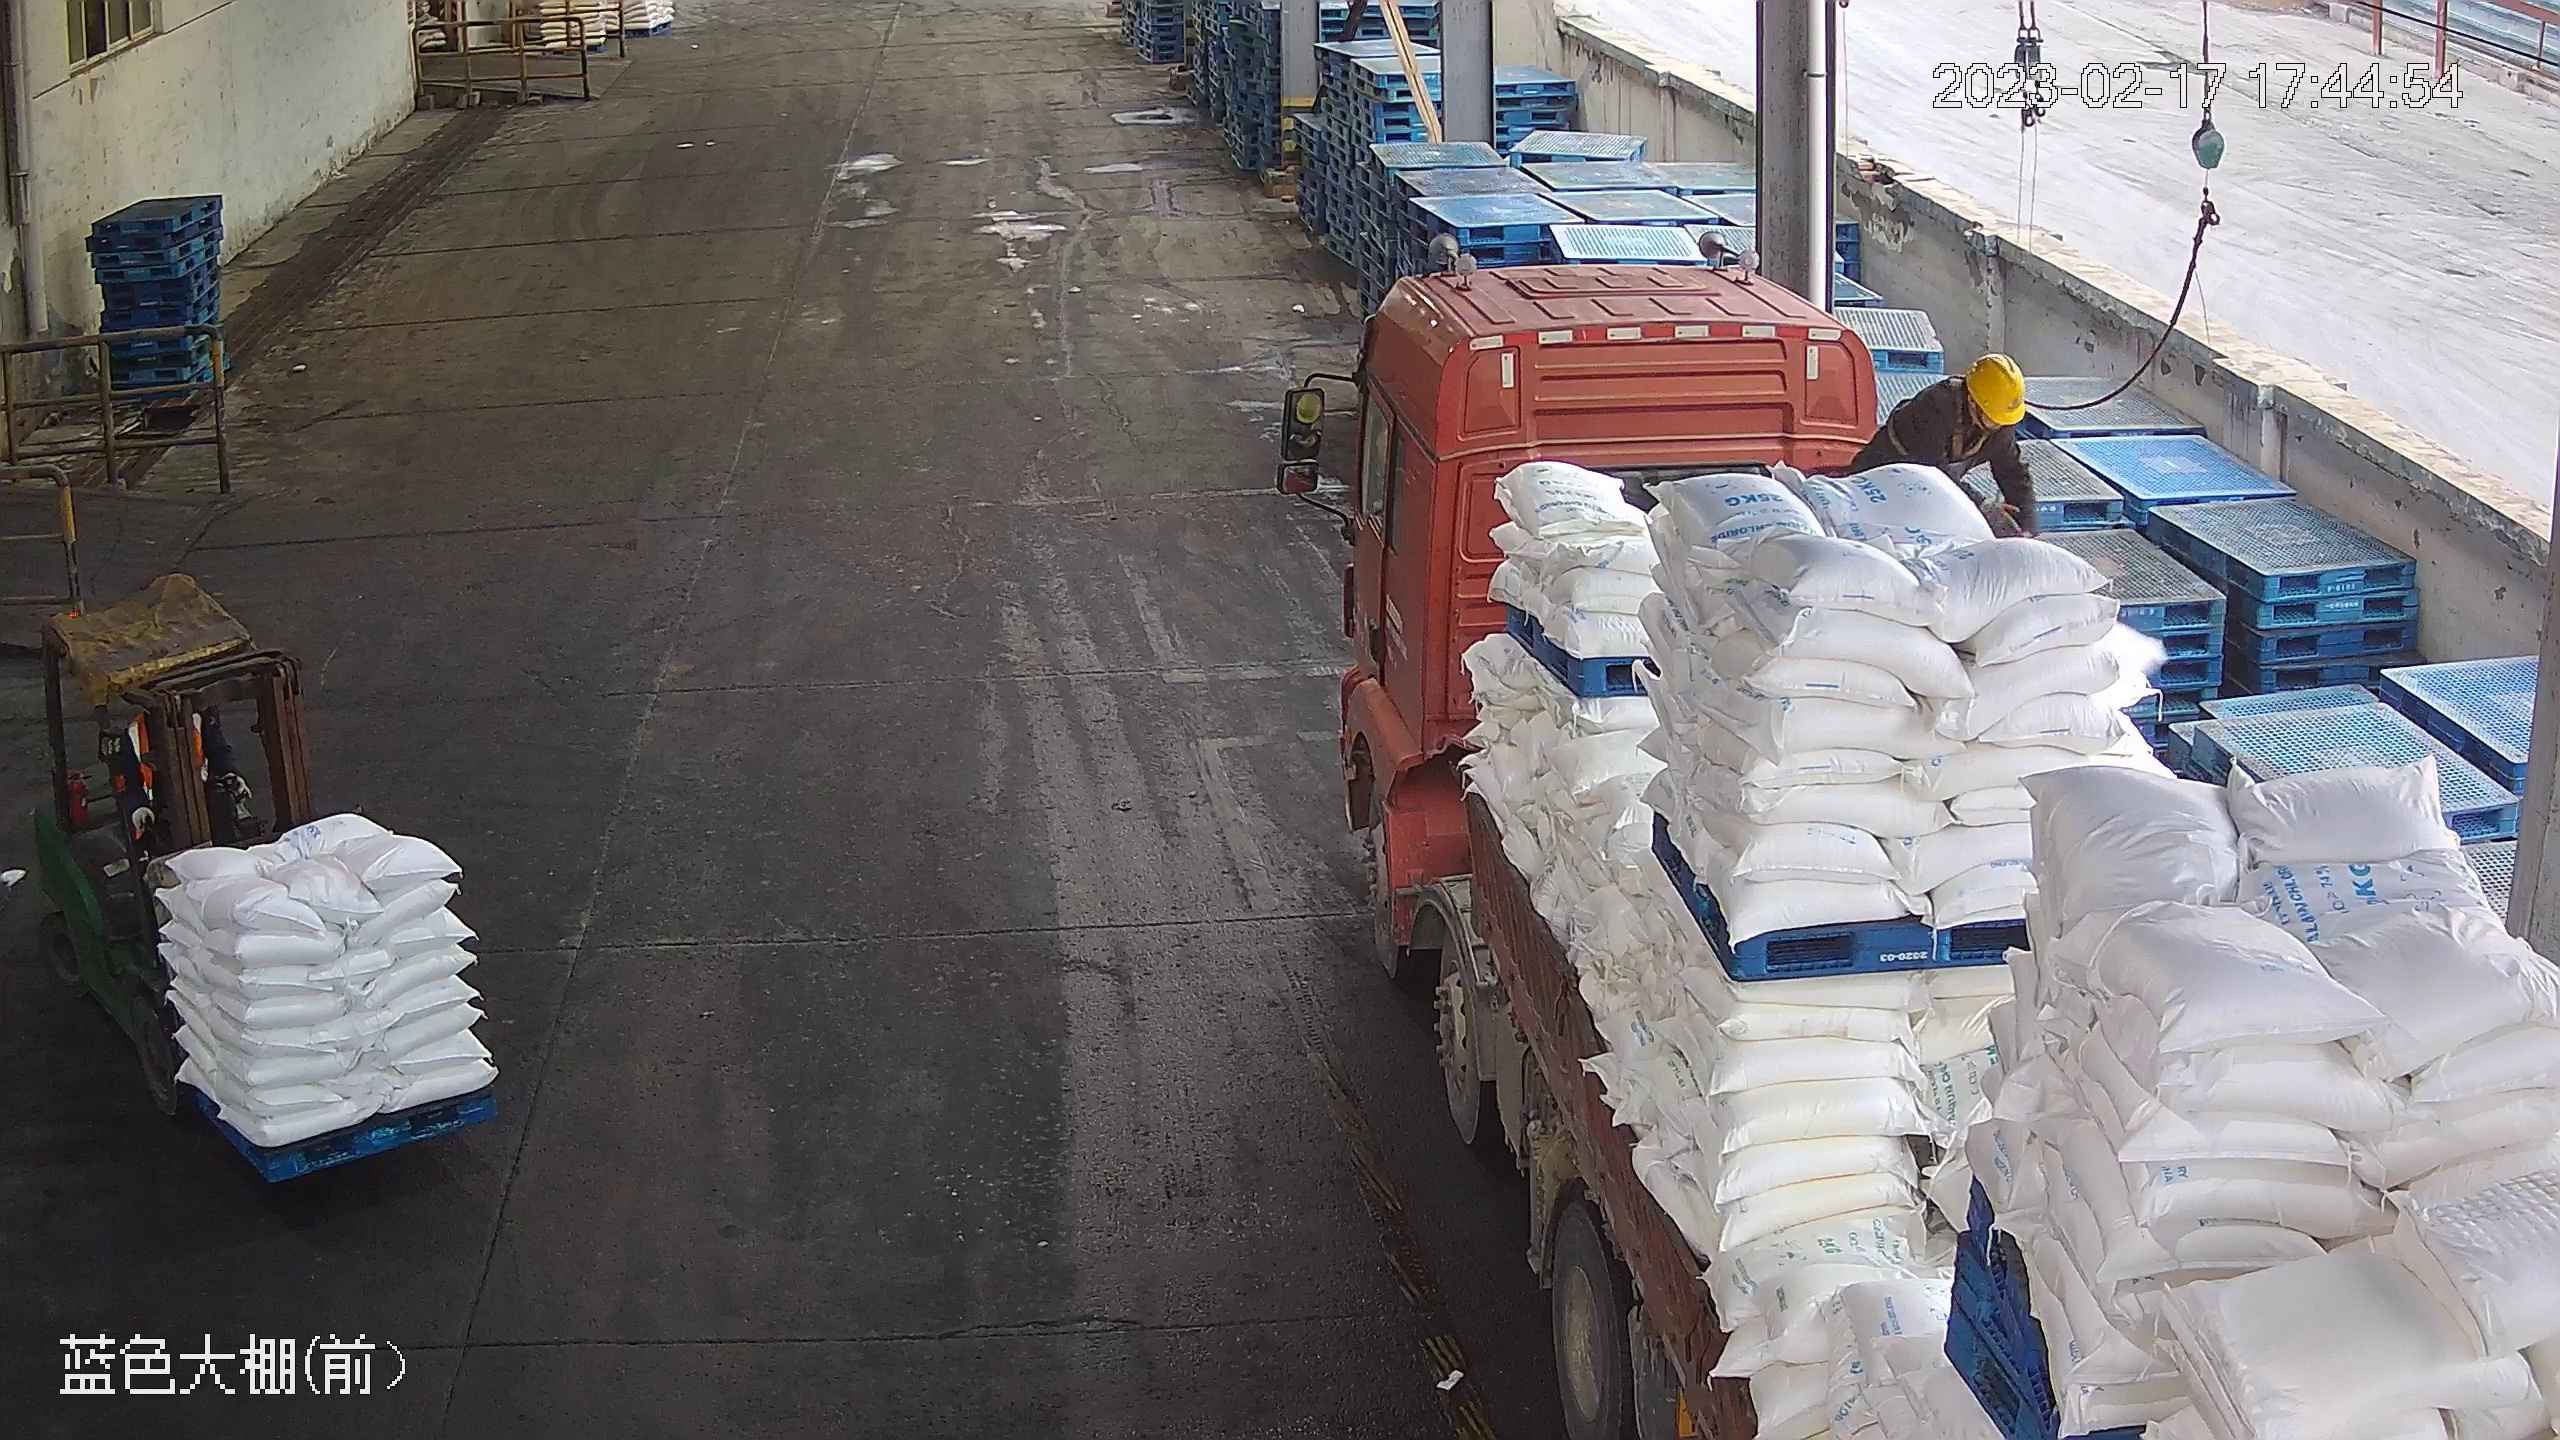belt: (1885, 383, 1992, 463)
head: (1871, 349, 2033, 471)
helmet: (1966, 352, 2026, 428)
truck: (1273, 259, 2560, 1440)
